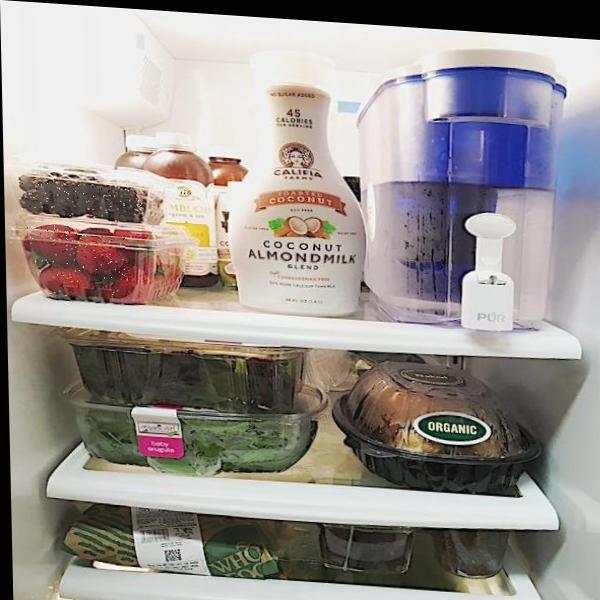blueberries: (21, 180, 144, 221)
strawberries: (73, 235, 126, 282), (27, 224, 78, 265), (40, 269, 89, 300), (112, 270, 150, 299)
